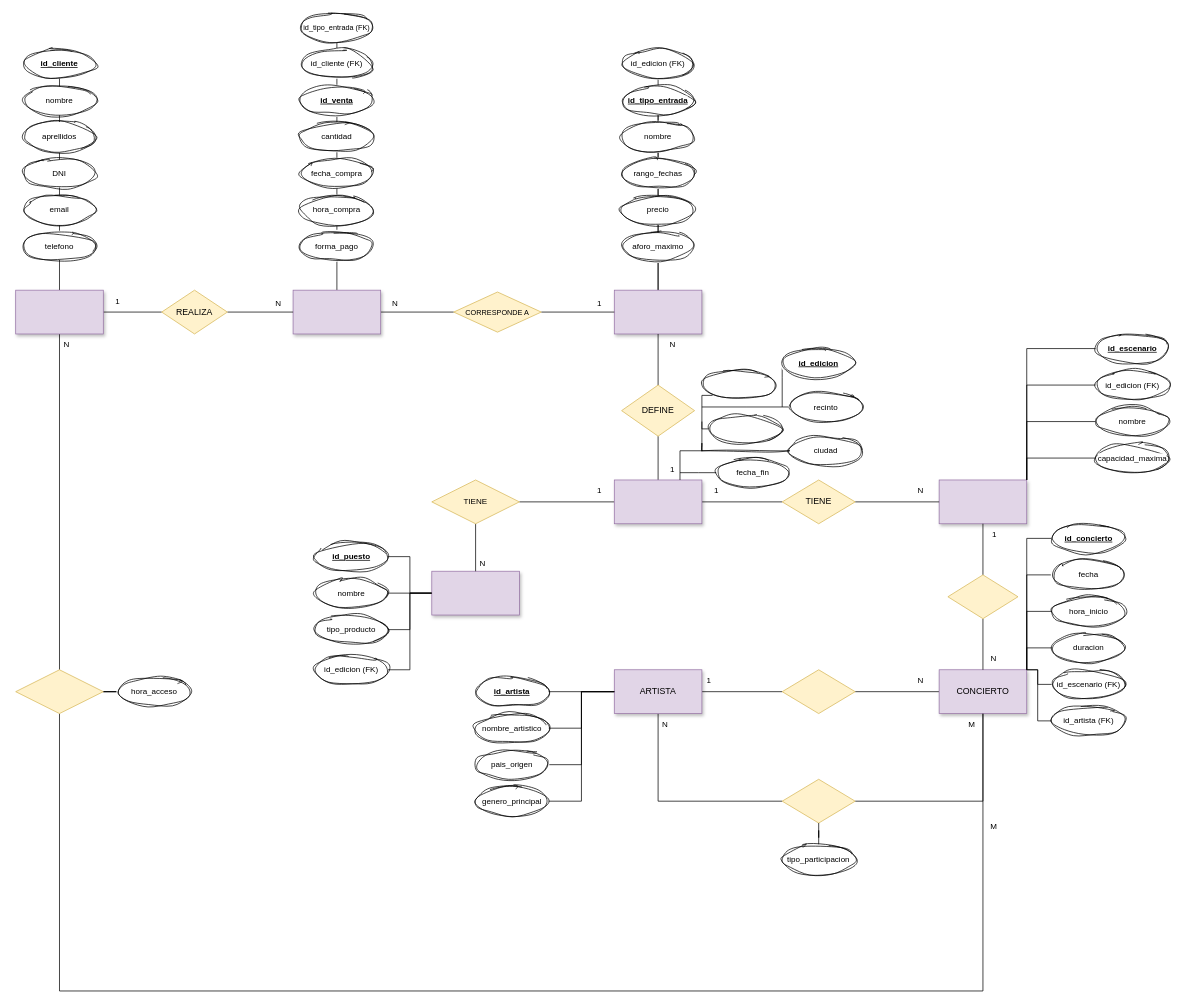
Some shapes in this 1182 by 1004 pixel diagram are drawn without their labels. The shapes that lost their labels are listed below. From the top down, each one's centre as x and y in pixels, then its label:
At [60,313]: "CLIENTE".
At [337,313]: "VENTA".
At [658,313]: "TIPO_ENTRADA".
At [738,385]: "codigo_edicion".
At [745,428]: "fecha_inicio".
At [658,502]: "EDICION".
At [983,502]: "ESCENARIO".
At [476,594]: "PUESTO".
At [982,596]: "SE HACE".
At [59,691]: "ACCEDE A".
At [818,691]: "ENCABEZA".
At [818,801]: "COLABORA".
